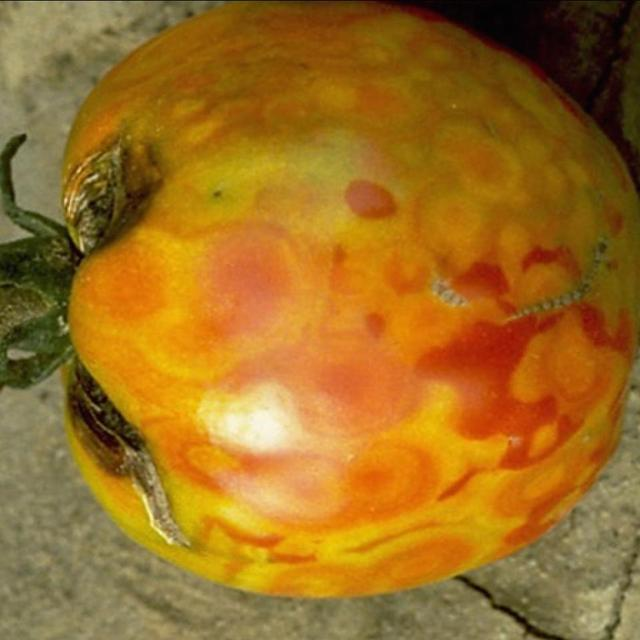Spotted wilt Virus Fruit: (96, 0, 234, 3)
